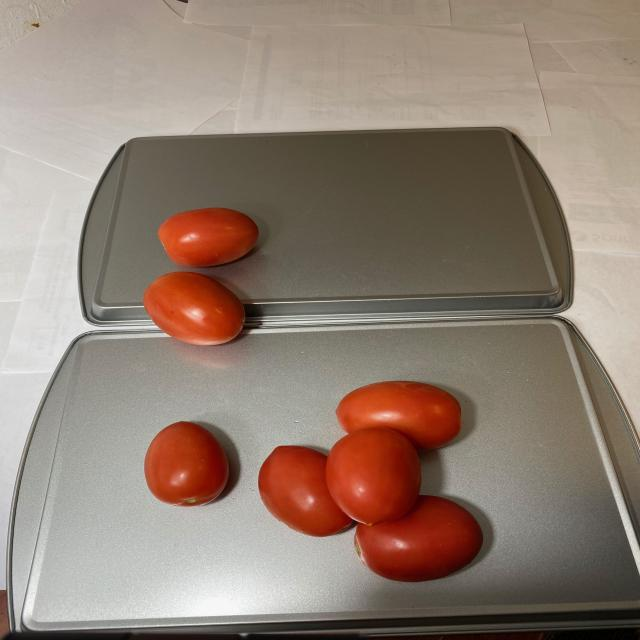tomato: (136, 381, 490, 584), (146, 206, 258, 354)
